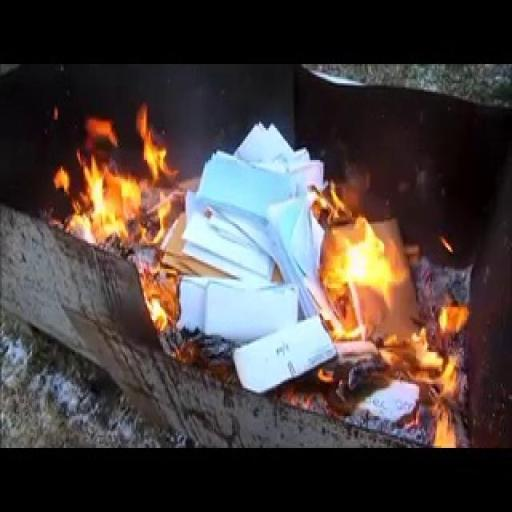smoke: (306, 156, 425, 365), (40, 84, 176, 266)
